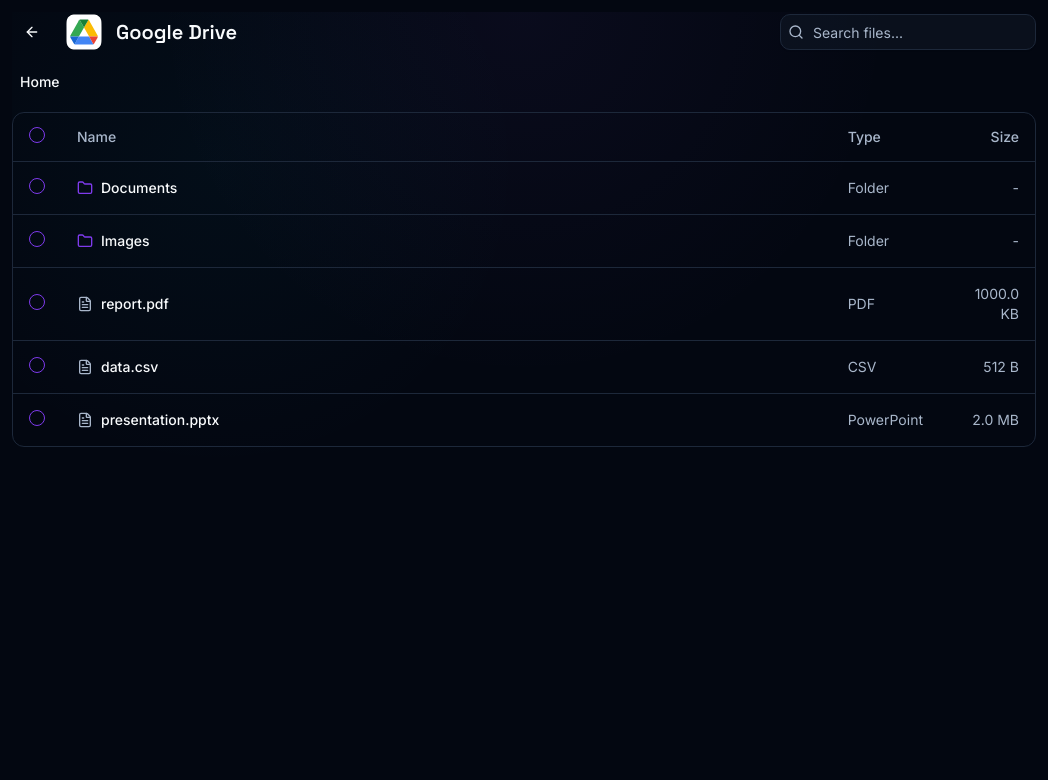
Scenario: FileBrowser › File Selection › should select a file when clicking checkbox
Expected: the text "report.pdf" is shown, 101,294 -> 169,314
Click the checkbox next to "Images" at (37, 238), box 29,230 -> 45,246
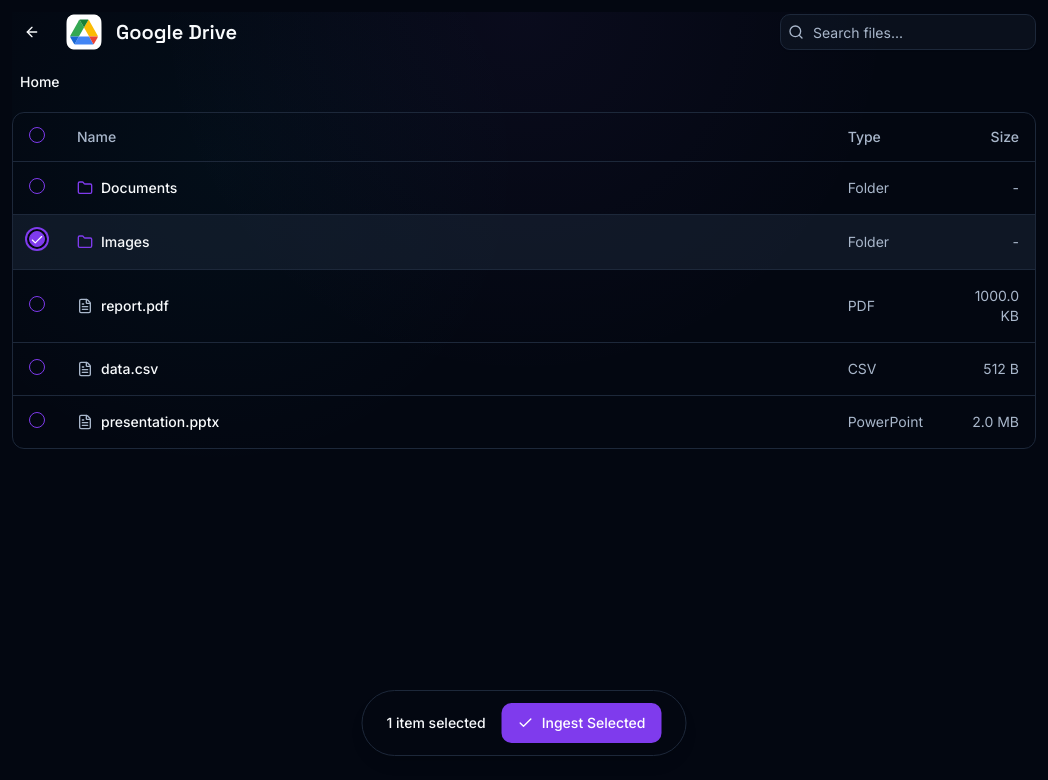
Now the text "1 item selected" is shown, box 386,713 -> 486,733
